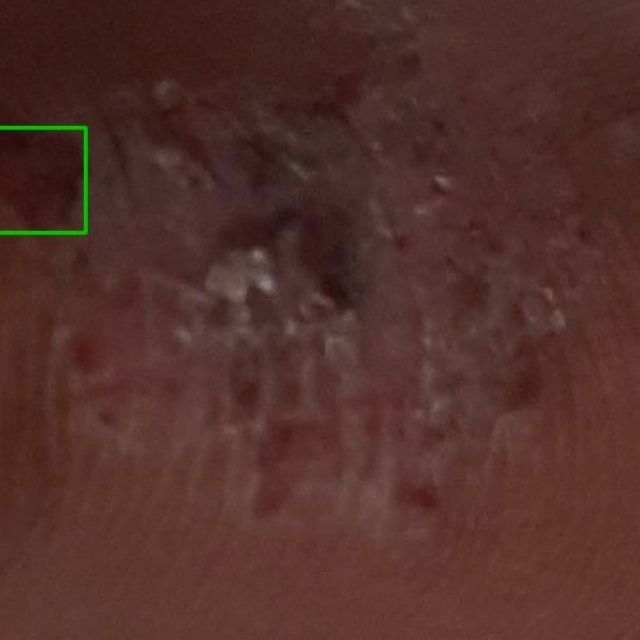Contact Dermatitis: (0, 127, 85, 232)
